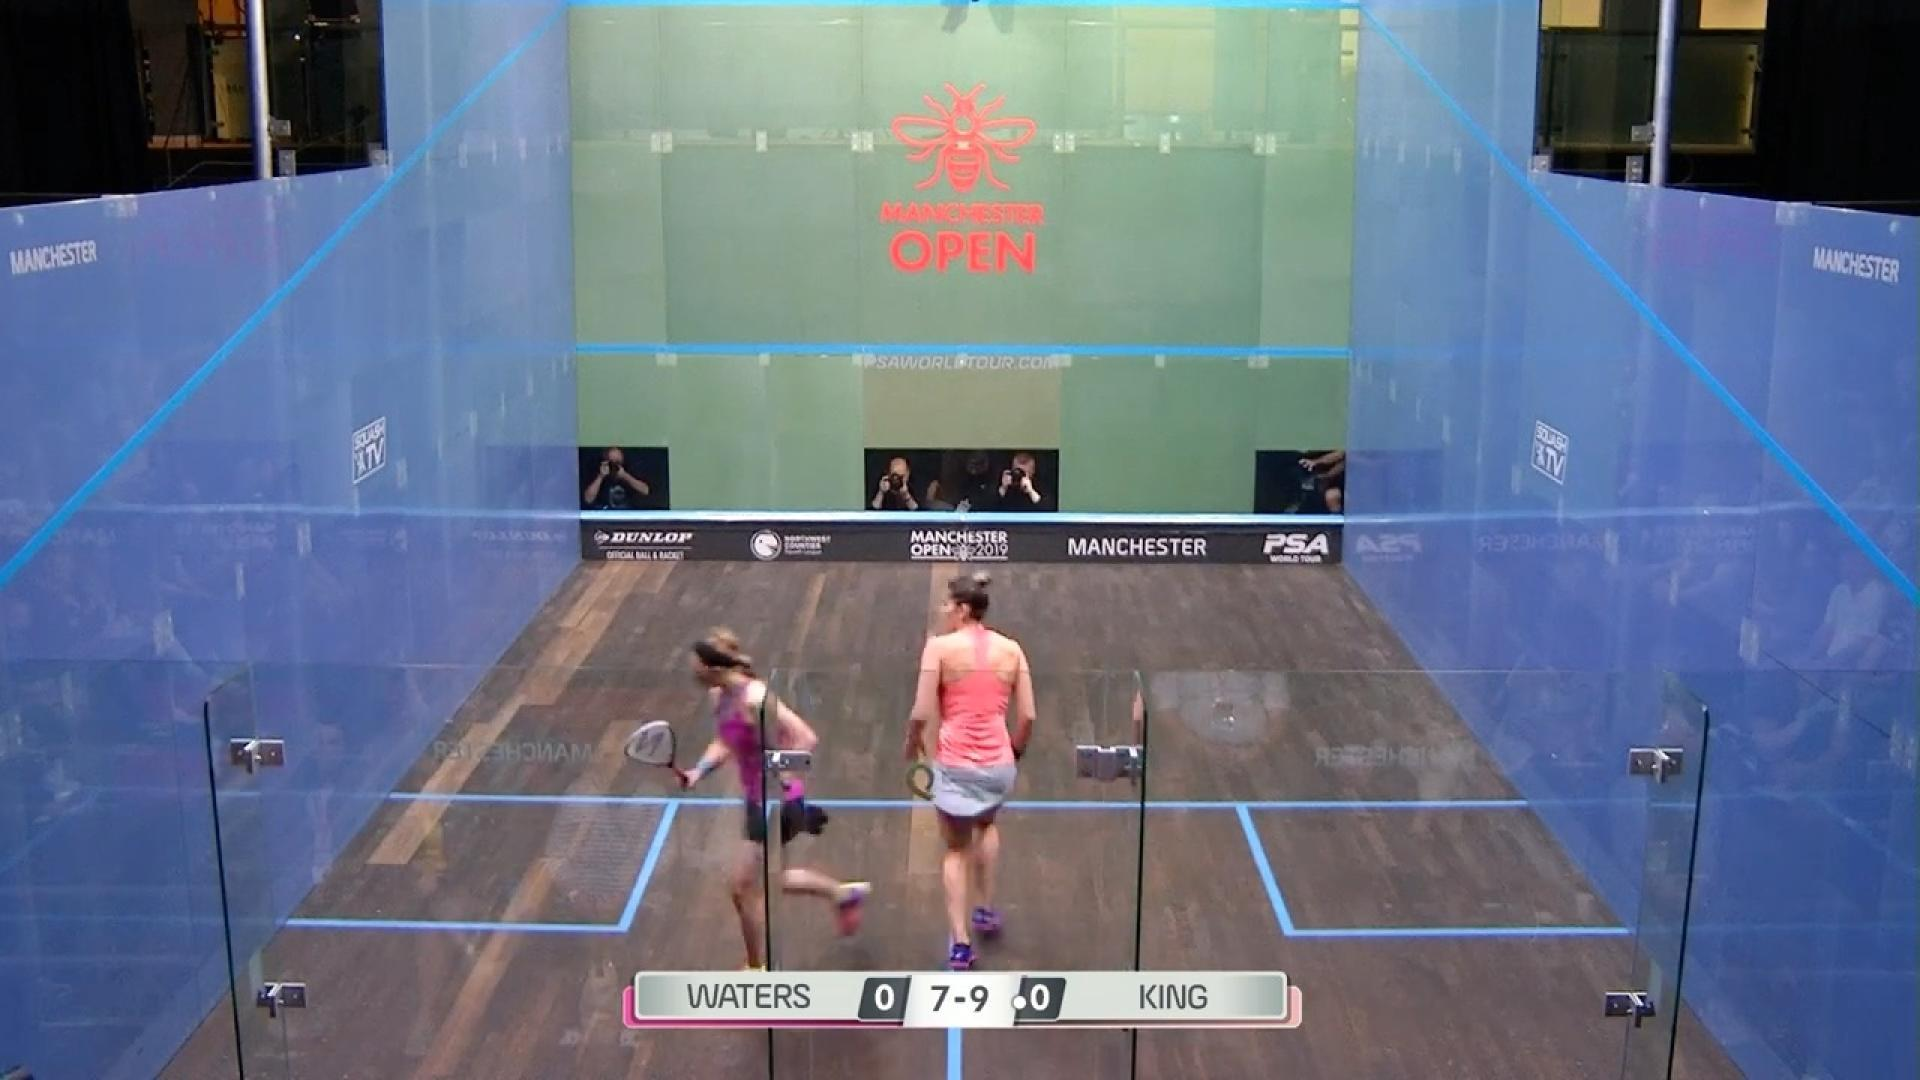Squash-Ball: (443, 920, 497, 975)
